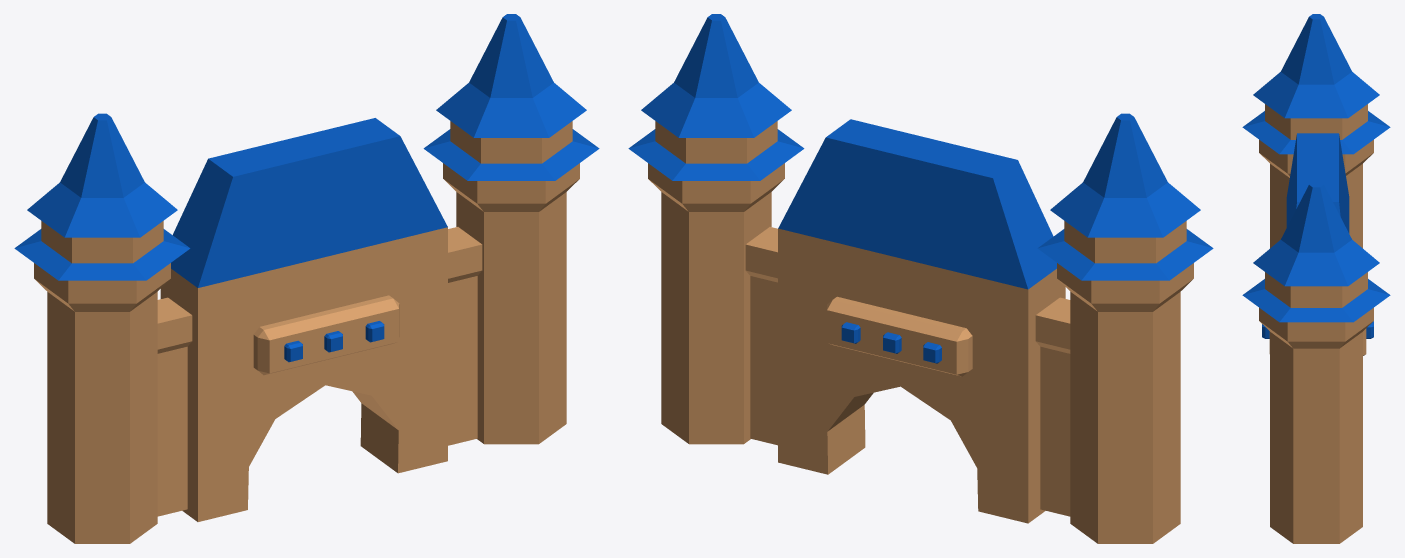
Rendered from GateOpen_Textured.fbx.
3 views of the same model, side by side, from view 1: azimuth 30°, elevation 25°; view 2: azimuth 150°, elevation 25°; view 3: azimuth 270°, elevation 25° (orthographic). The views are drawn at different scales.
Parts seen in each view (by area): view 1: Gate; view 2: Gate; view 3: Gate.
Boxes of the visible parts, box(x1,y1,x2,y2) form: Gate: box(14, 14, 599, 543); Gate: box(628, 14, 1213, 543); Gate: box(1242, 14, 1390, 543).
Size of the model in its own units: 1134 by 823 by 320.
